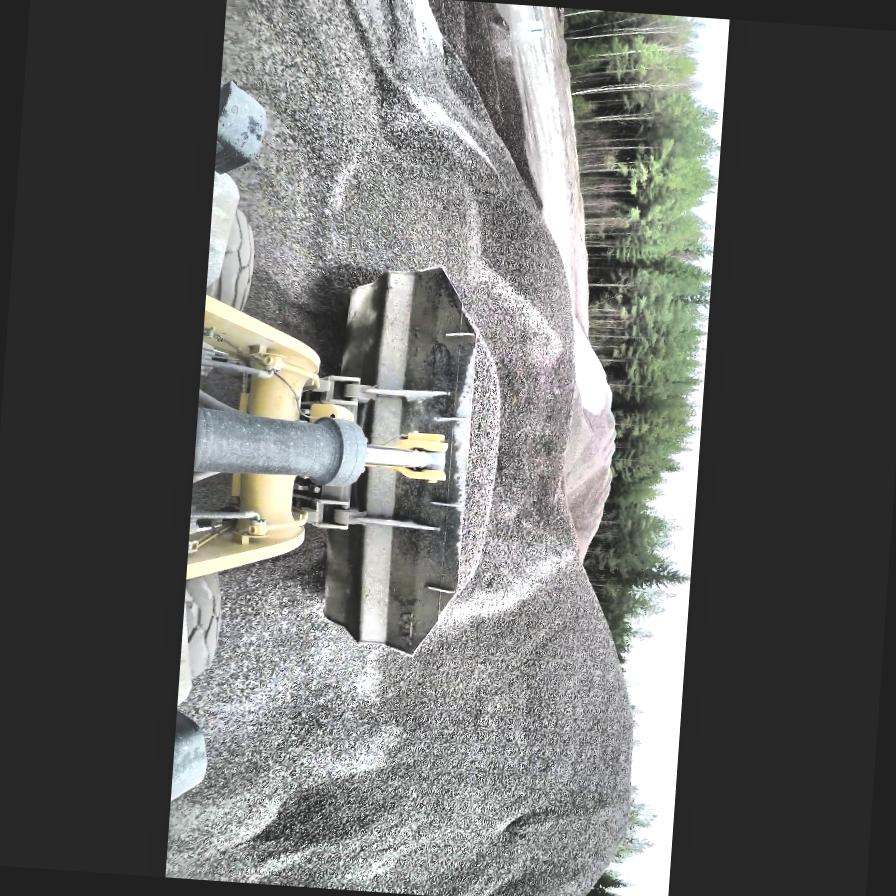anchor: (376, 426, 452, 486)
pile of gravel: (296, 0, 690, 896), (554, 311, 626, 557)
